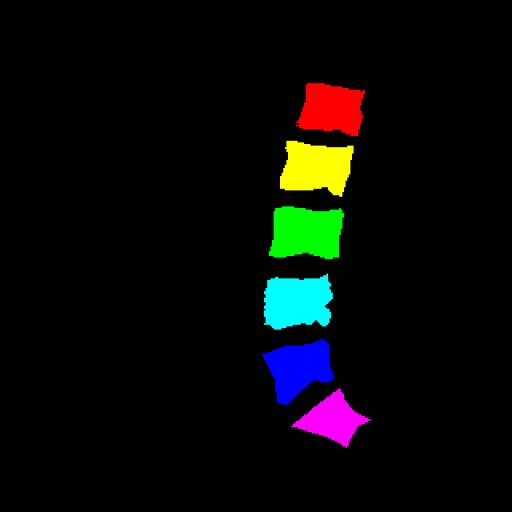L1: (298, 84, 364, 136)
L2: (282, 142, 352, 196)
L3: (270, 209, 342, 258)
L4: (265, 274, 333, 330)
L5: (263, 339, 334, 404)
S1: (292, 389, 371, 446)
